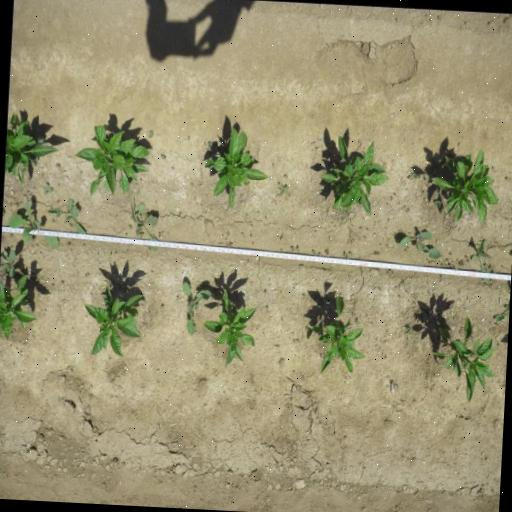plant: (314, 132, 392, 216), (430, 310, 498, 404), (72, 122, 150, 200), (202, 123, 268, 210), (431, 146, 500, 228), (80, 278, 148, 360), (307, 293, 365, 377), (201, 287, 260, 367), (3, 111, 61, 189), (0, 276, 39, 344)
weed: (6, 199, 59, 251), (180, 279, 211, 338), (46, 196, 88, 235), (128, 200, 158, 250), (396, 228, 440, 259), (469, 236, 490, 282), (0, 245, 18, 278), (34, 120, 48, 143), (276, 181, 290, 196), (42, 180, 54, 196), (406, 170, 420, 181), (134, 224, 142, 235), (432, 200, 440, 210), (406, 325, 413, 335), (67, 220, 74, 230), (458, 259, 466, 267), (207, 140, 215, 148), (488, 264, 494, 274), (448, 263, 456, 270), (160, 152, 167, 160), (148, 142, 153, 152), (388, 268, 394, 276), (342, 252, 350, 258), (138, 231, 144, 239), (158, 230, 164, 238), (54, 161, 60, 168), (324, 247, 329, 255), (289, 244, 294, 252), (148, 130, 153, 138), (312, 249, 317, 256), (127, 223, 132, 230), (354, 318, 359, 325), (160, 302, 164, 310), (216, 301, 220, 308), (296, 244, 299, 252), (220, 134, 224, 140), (186, 135, 190, 140), (318, 253, 321, 256), (284, 174, 288, 176), (350, 252, 352, 254)
